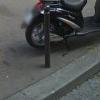Motorcycle: (18, 0, 100, 52)
